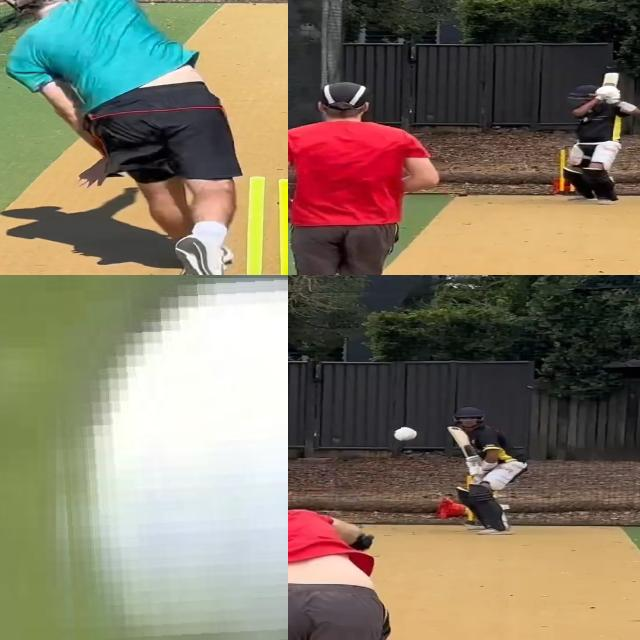Cricket ball: (51, 277, 288, 640), (391, 424, 421, 443)
